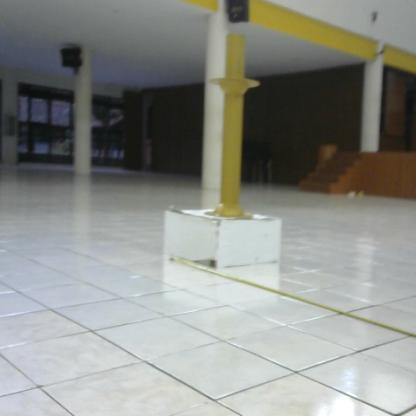pole: (204, 32, 267, 226)
